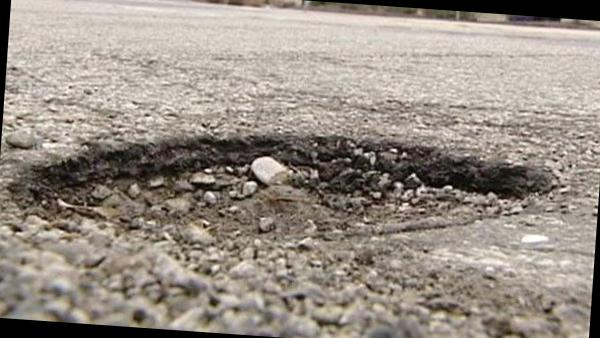pothole: (0, 101, 563, 302)
